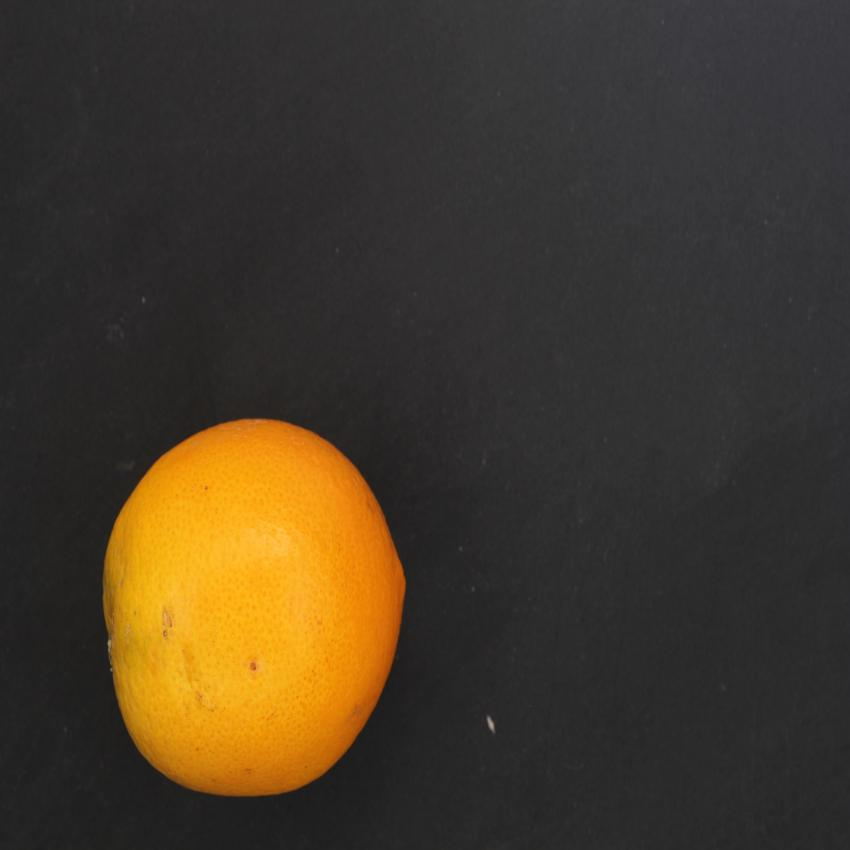Buen estado: (90, 399, 421, 810)
